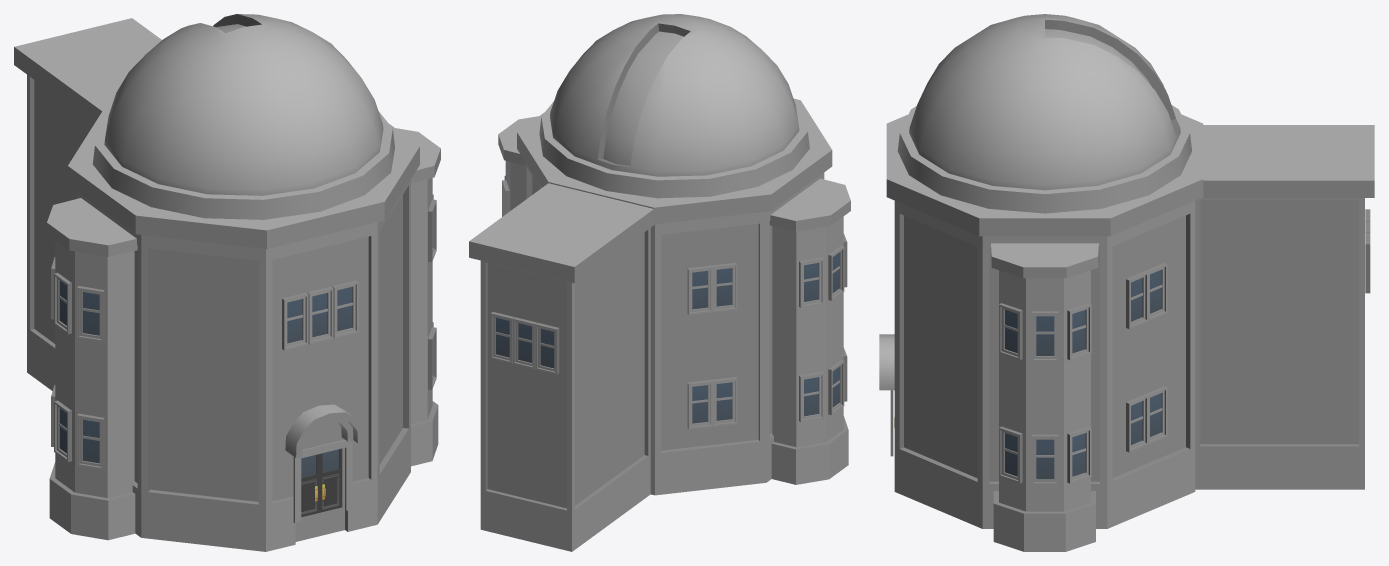
File: buildings-business-observatory_v1.glb
3 renders of one model, left to right at view 1: azimuth 30°, elevation 25°; view 2: azimuth 150°, elevation 25°; view 3: azimuth 270°, elevation 25°, orthographic. The views are drawn at different scales.
Parts seen in each view (by area): view 1: Observatory_base, Observatory_windowRefl; view 2: Observatory_base, Observatory_windowRefl; view 3: Observatory_base, Observatory_windowRefl.
Part boxes in pixels (box(x1,y1,x2,y2)): Observatory_base: box(14, 14, 440, 551); Observatory_windowRefl: box(59, 280, 352, 477); Observatory_base: box(469, 14, 850, 551); Observatory_windowRefl: box(496, 253, 839, 423); Observatory_base: box(879, 14, 1374, 551); Observatory_windowRefl: box(1005, 270, 1161, 479).
Size of the model in its own units: 20.14 by 23.53 by 24.09.
